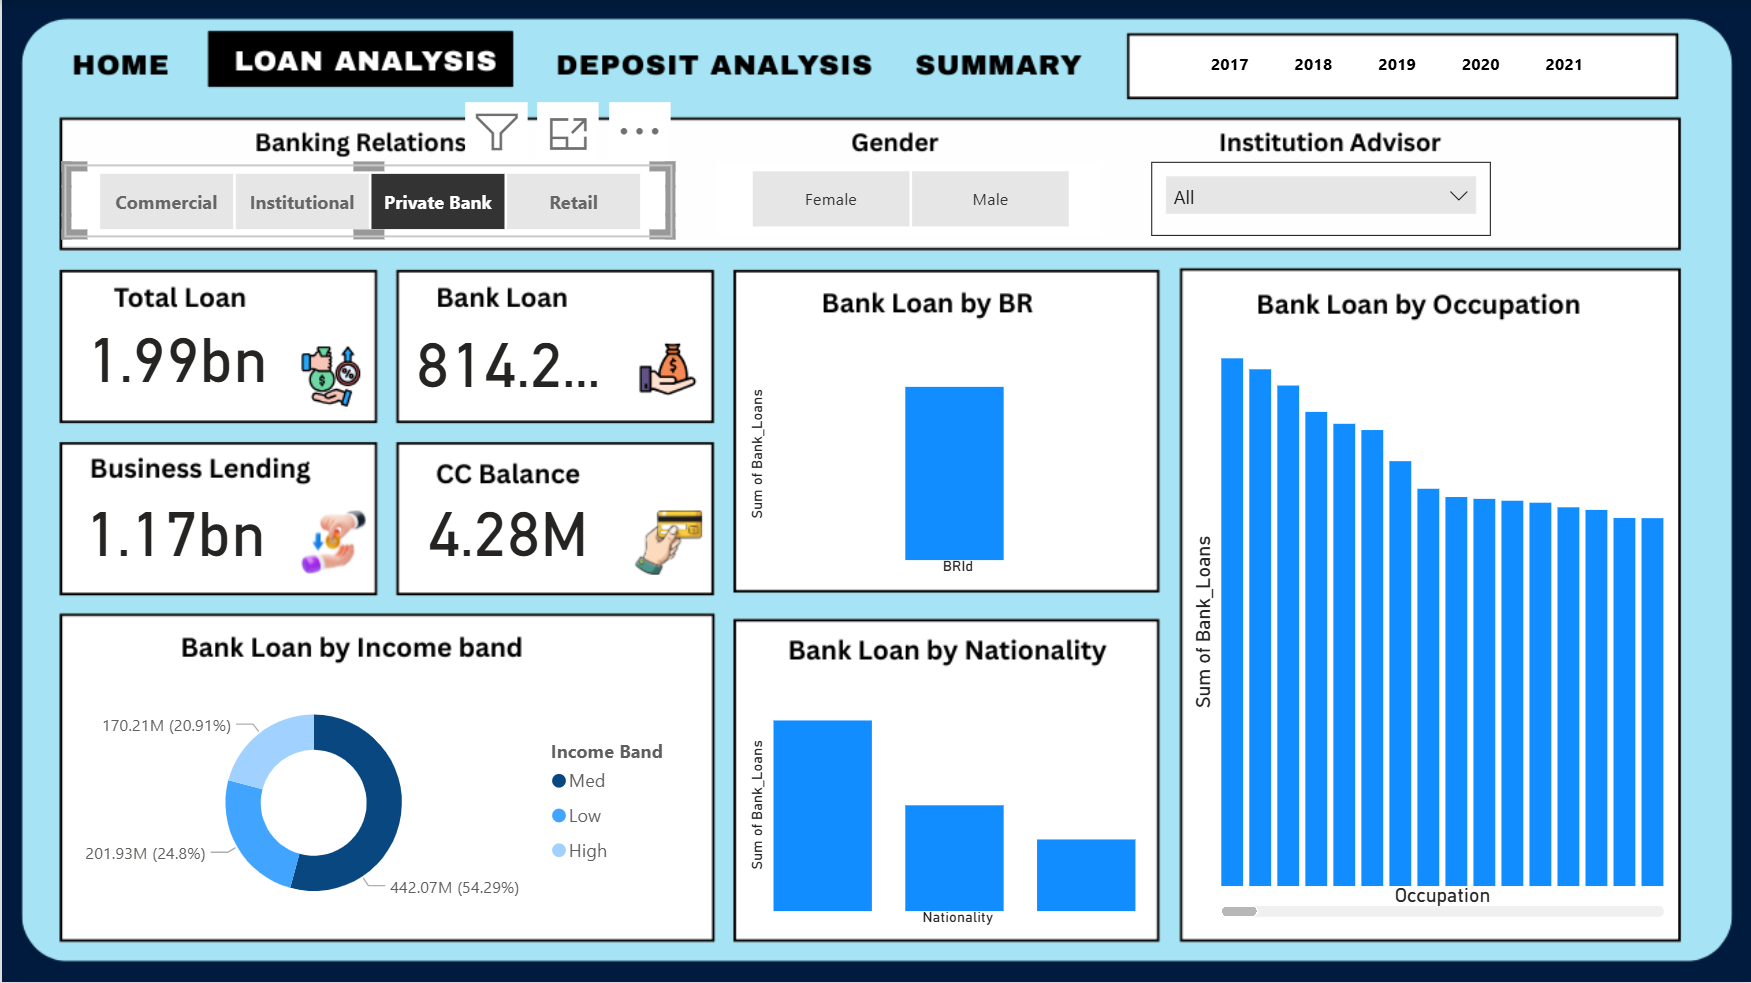

The page's visual inventory and layout, read from the dashboard file:
{"tool":"powerbi","page":{"name":"Loan Analysis","canvas":[1280,720],"ordinal":1},"visuals":[{"type":"slicer","fields":{"Values":["Banking1.Joined_Bank.Variation.Date Hierarchy.Year"]},"box":[842.8,29.1,354,35.7],"z":0},{"type":"actionButton","box":[46.2,29.1,95.1,38.3],"z":1000},{"type":"actionButton","box":[395,29.1,257.6,39.6],"z":2000},{"type":"actionButton","box":[664.4,25.1,140,39.6],"z":3000},{"type":"card","fields":{"Values":["Banking1.Total Loan"]},"box":[47.6,240.4,161.2,60.8],"z":4000},{"type":"card","fields":{"Values":["Sum(Banking1.Bank_Loans)"]},"box":[296.7,243.4,180.7,60.9],"z":5000},{"type":"card","fields":{"Values":["Sum(Banking1.Business_Lending)"]},"box":[52.8,368.5,146.6,56.8],"z":6000},{"type":"card","fields":{"Values":["Sum(Banking1.Credit_Card_Balance)"]},"box":[297.2,369.9,146.6,56.8],"z":7000},{"type":"donutChart","fields":{"Category":["Banking1.Income Band"],"Y":["Sum(Banking1.Bank_Loans)"]},"box":[50.2,500.6,457,177],"z":8000},{"type":"clusteredColumnChart","fields":{"Category":["Banking1.BRId"],"Y":["Sum(Banking1.Bank_Loans)"]},"box":[541.6,241.7,297.2,184.9],"z":9000},{"type":"clusteredColumnChart","fields":{"Y":["Sum(Banking1.Bank_Loans)"],"Category":["Banking1.Nationality"]},"box":[541.6,498,297.2,184.9],"z":10000},{"type":"clusteredColumnChart","fields":{"Category":["Banking1.Occupation"],"Y":["Sum(Banking1.Bank_Loans)"]},"box":[865.2,249.7,355.3,428],"z":11000},{"type":"slicer","fields":{"Values":["Banking1.BRId"]},"box":[46.2,121.5,445.2,54.2],"z":12000},{"type":"slicer","fields":{"Values":["Banking1.GenderId"]},"box":[523.1,120.2,281.4,54.2],"z":13000},{"type":"slicer","fields":{"Values":["Banking1.IAId"]},"box":[840.1,120.2,248.3,54.2],"z":14000}]}

Visuals, with their boxes in screenshot pixels (x1, y1, x2, y2), scaled from the page's 1280x720 canvas onto the 1751x983 screenshot:
slicer - Banking1.Joined_Bank.Variation.Date Hierarchy.Year: l=1153, t=40, r=1637, b=88
actionButton: l=63, t=40, r=193, b=92
actionButton: l=540, t=40, r=893, b=94
actionButton: l=909, t=34, r=1100, b=88
card - Banking1.Total Loan: l=65, t=328, r=286, b=411
card - Sum(Banking1.Bank_Loans): l=406, t=332, r=653, b=415
card - Sum(Banking1.Business_Lending): l=72, t=503, r=273, b=581
card - Sum(Banking1.Credit_Card_Balance): l=407, t=505, r=607, b=583
donutChart - Banking1.Income Band x Sum(Banking1.Bank_Loans): l=69, t=683, r=694, b=925
clusteredColumnChart - Banking1.BRId x Sum(Banking1.Bank_Loans): l=741, t=330, r=1147, b=582
clusteredColumnChart - Sum(Banking1.Bank_Loans) x Banking1.Nationality: l=741, t=680, r=1147, b=932
clusteredColumnChart - Banking1.Occupation x Sum(Banking1.Bank_Loans): l=1184, t=341, r=1670, b=925
slicer - Banking1.BRId: l=63, t=166, r=672, b=240
slicer - Banking1.GenderId: l=716, t=164, r=1101, b=238
slicer - Banking1.IAId: l=1149, t=164, r=1489, b=238
